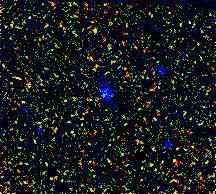star: (75, 23, 105, 53)
